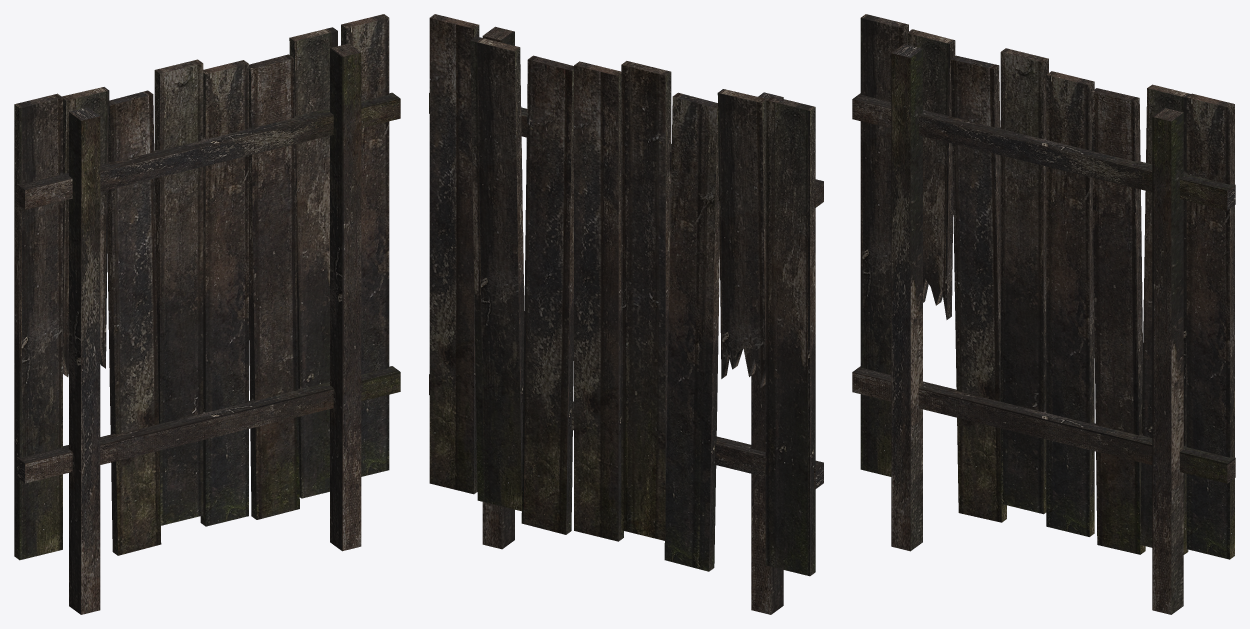
File: WoodenFence_2.fbx
The picture shows the model from 3 angles, left to right: view 1: azimuth 30°, elevation 25°; view 2: azimuth 150°, elevation 25°; view 3: azimuth 330°, elevation 25°; orthographic projection. The views are drawn at different scales.
Visible parts, largest first — view 1: WoodenFence_2; view 2: WoodenFence_2; view 3: WoodenFence_2.
Boxes of the visible parts, x1,y1,x2,y2 form: WoodenFence_2: (14,14,400,614); WoodenFence_2: (429,14,823,614); WoodenFence_2: (852,14,1235,614).
Bounding box in the file's own units: 174 × 224 × 21.2.
